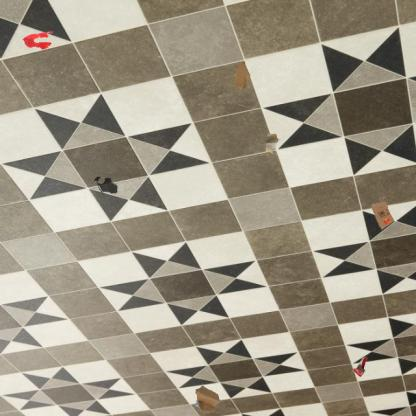dirty: (193, 382, 222, 416), (369, 201, 397, 232), (233, 59, 253, 89), (351, 355, 369, 379), (264, 132, 282, 154)
liquid: (21, 30, 54, 51), (93, 175, 119, 195)
